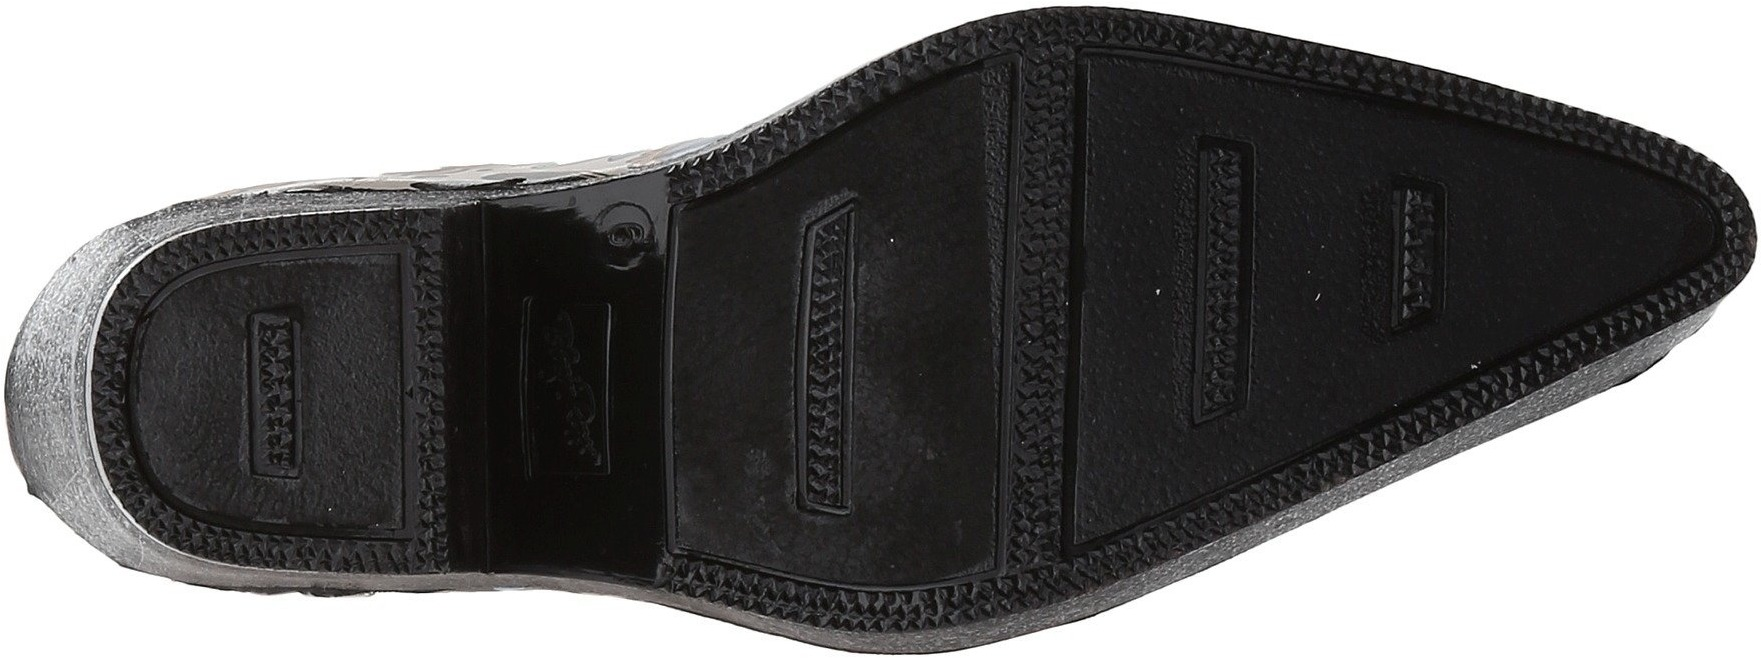quad: (765, 194, 980, 548), (1095, 66, 1296, 441), (1353, 149, 1461, 360), (220, 282, 319, 493)
